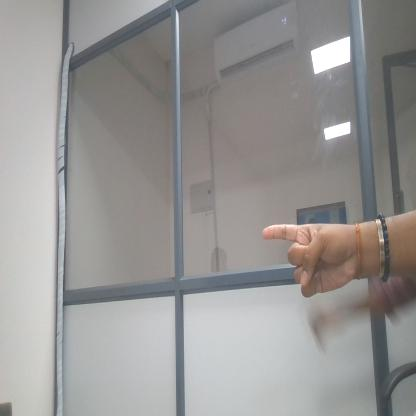Right: (254, 208, 374, 309)
